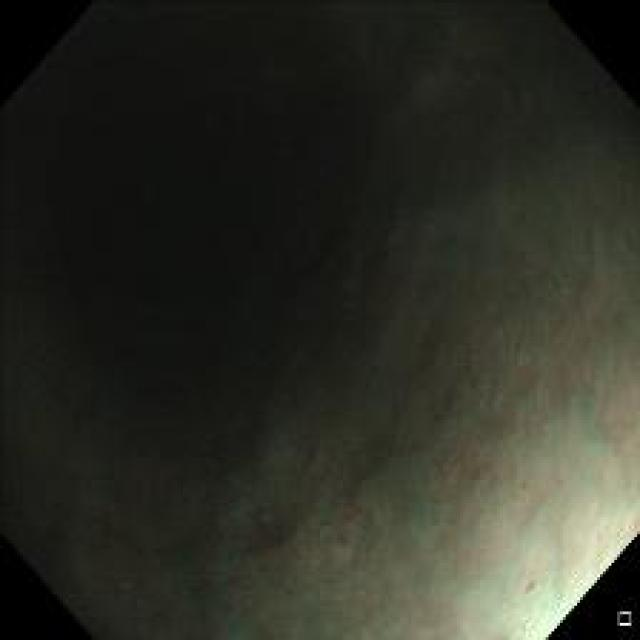contrast: (32, 11, 479, 562)
saturation: (529, 520, 626, 630)
